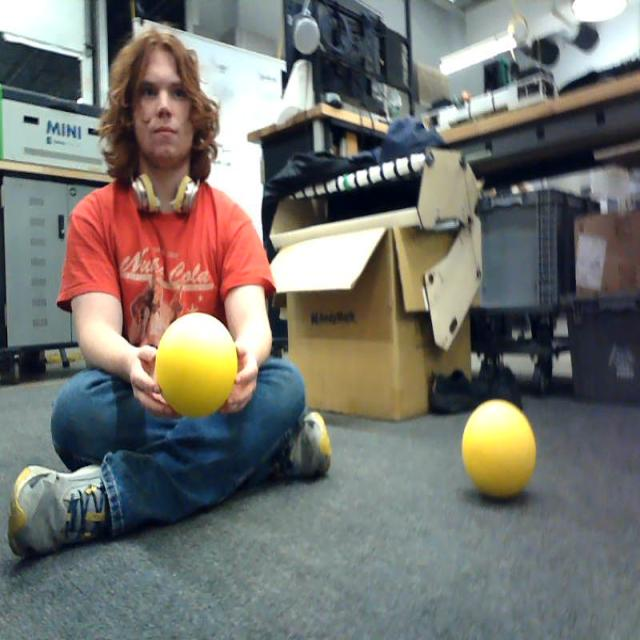Fuel: (156, 312, 238, 417), (462, 400, 536, 500)
